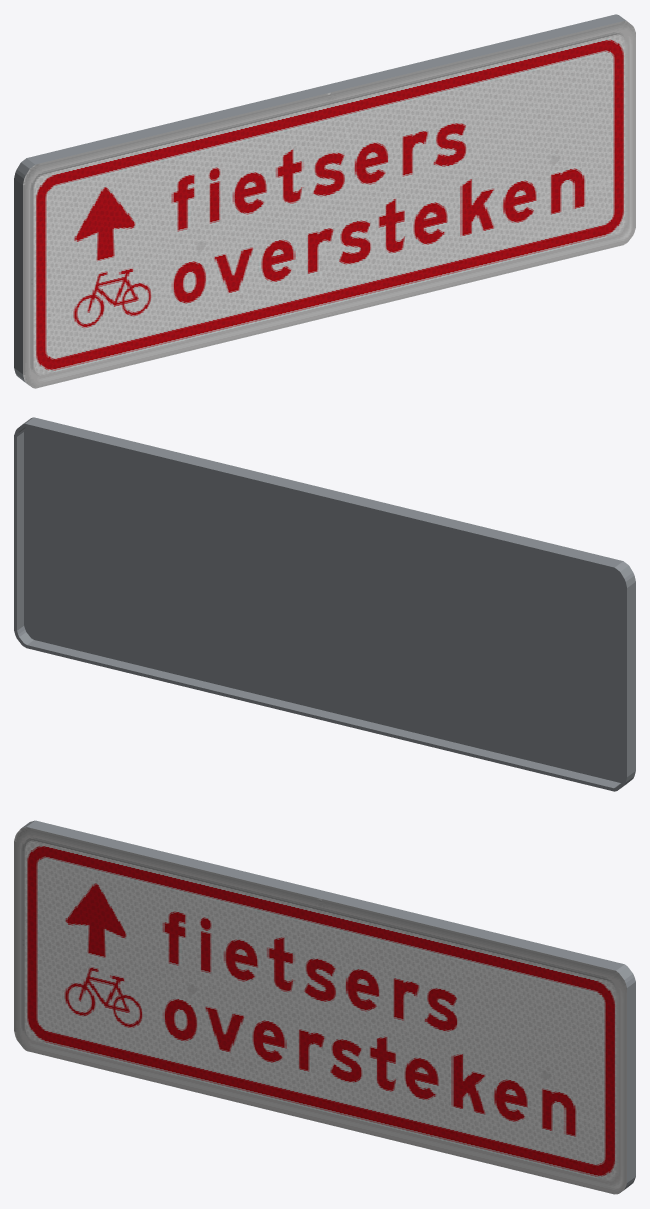
3 views of the same model, one above another, from view 1: azimuth 30°, elevation 25°; view 2: azimuth 150°, elevation 25°; view 3: azimuth 330°, elevation 25° (orthographic).
Parts seen in each view (by area): view 1: cat_da075c2ee4f8d8d0; view 2: cat_da075c2ee4f8d8d0; view 3: cat_da075c2ee4f8d8d0.
Boxes of the visible parts, x1,y1,x2,y2 form: cat_da075c2ee4f8d8d0: [14, 14, 635, 388]; cat_da075c2ee4f8d8d0: [14, 417, 635, 791]; cat_da075c2ee4f8d8d0: [14, 820, 635, 1194].
Bounding box in the file's own units: 0.6 × 0.015 × 0.2095.
2 materials, 1 textured.
